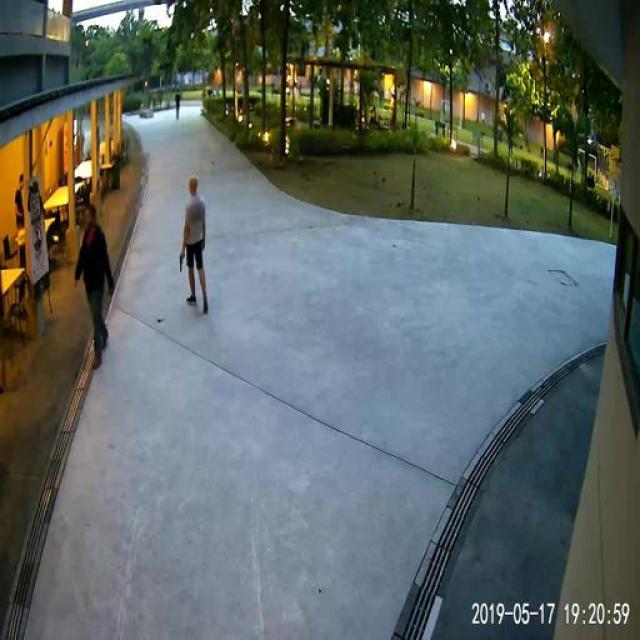Gun: (177, 246, 195, 276)
